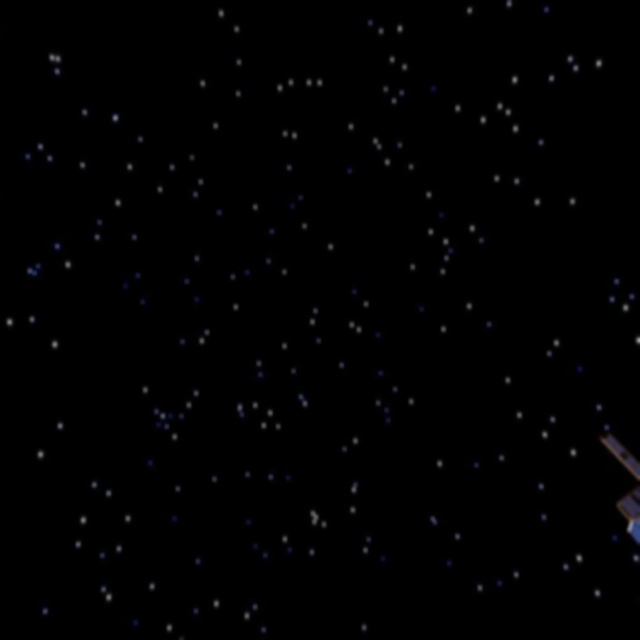satellite: (591, 426, 640, 553)
